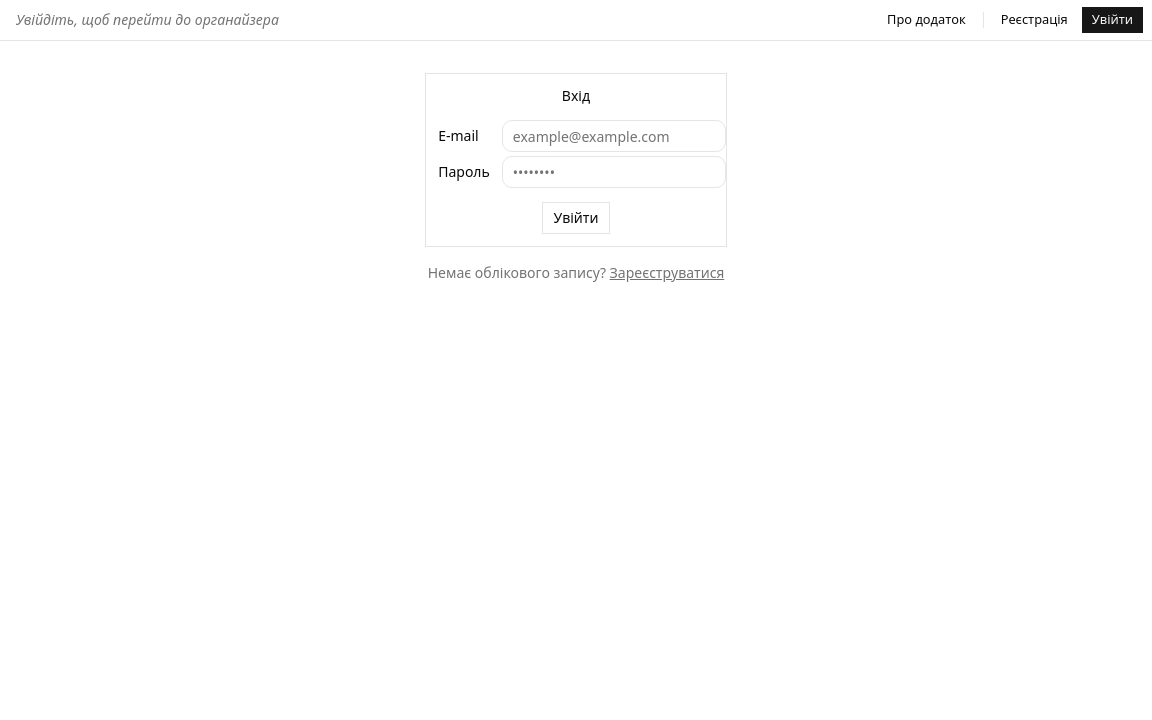
Test case: Extra Tasks › selects a task and shows detail
Type "demo@example.com" into the field with id "login-email" at [614, 136], box x1=502 y1=120 x2=726 y2=152
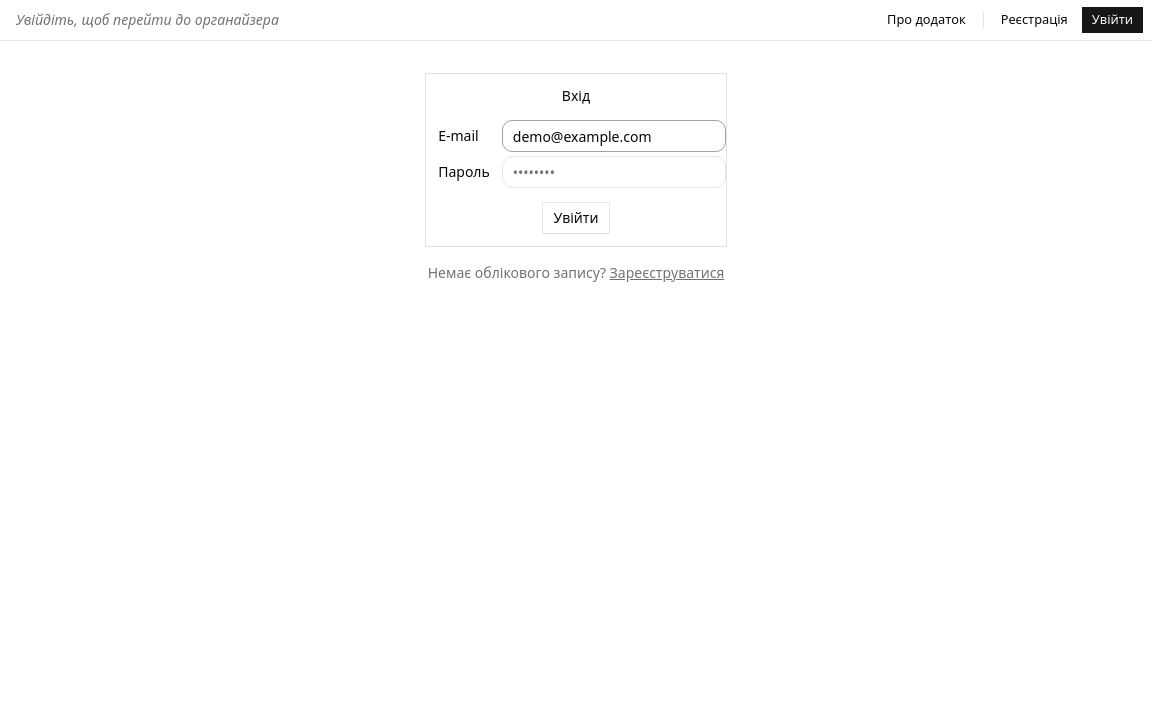
Type "demo" into the password field with id "login-password" at [614, 172], box x1=502 y1=156 x2=726 y2=188
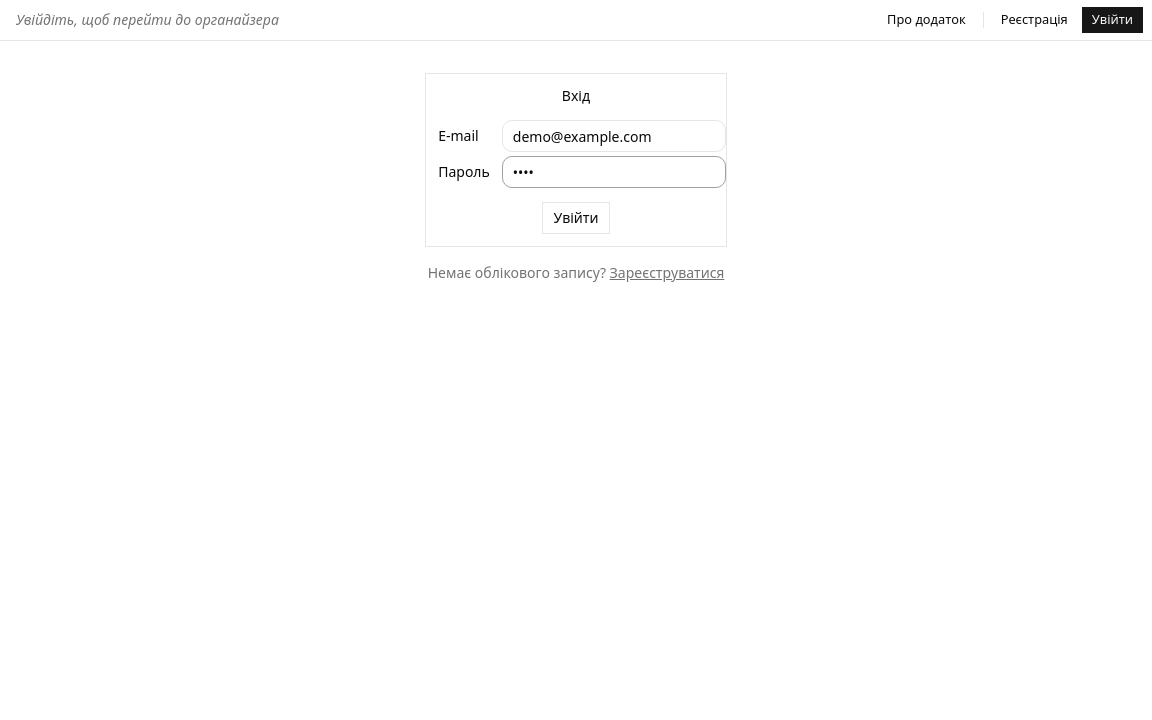
Click the button "Увійти" below "Пароль" at [576, 218], box x1=542 y1=202 x2=609 y2=234
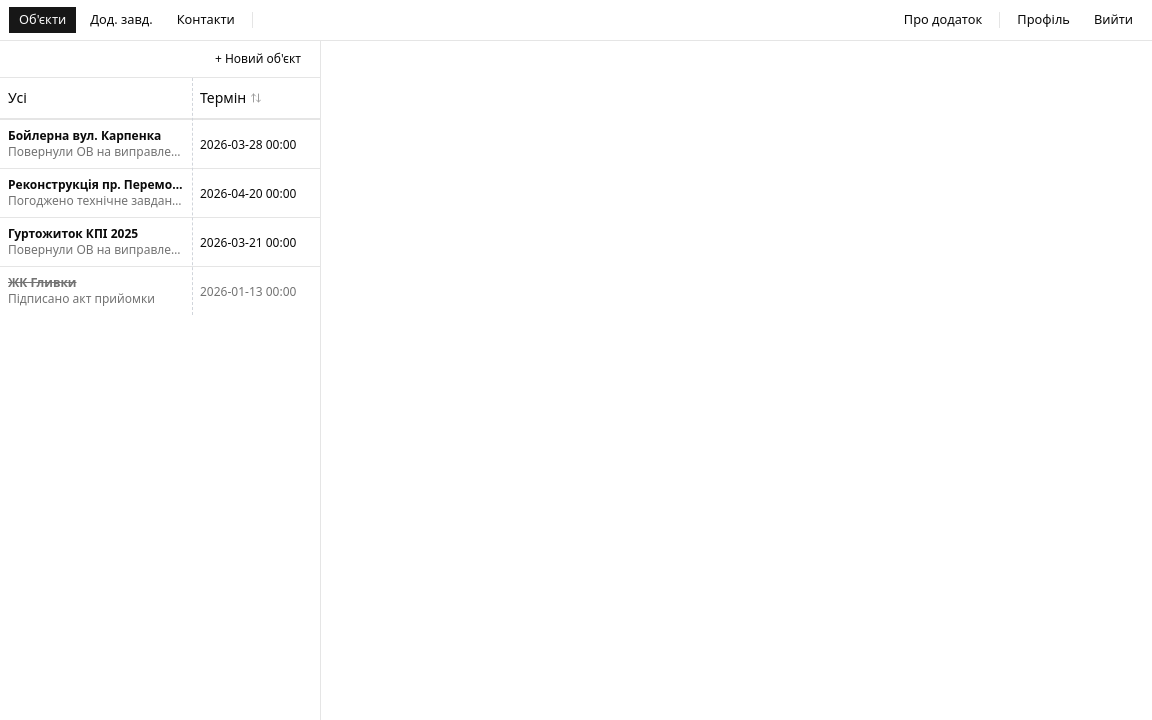
Click the button "Дод. завд." at [122, 20], box x1=79 y1=6 x2=164 y2=34
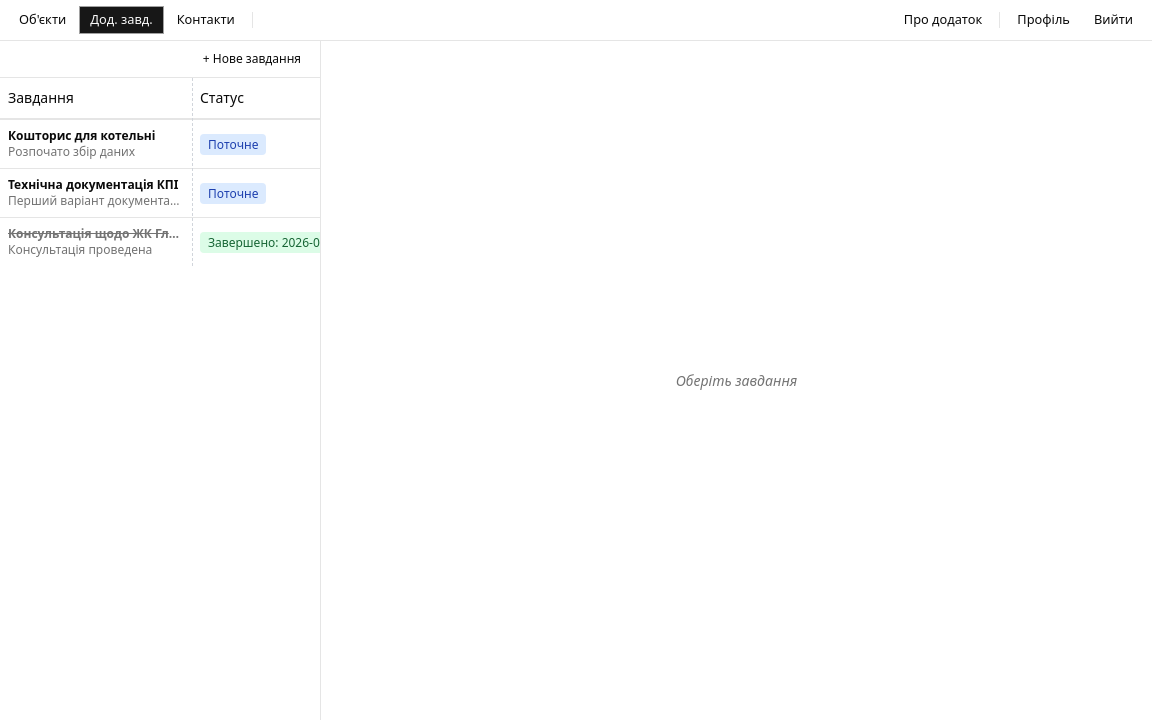
Click the text "Кошторис для котельні" at [82, 136], box x1=8 y1=127 x2=155 y2=144
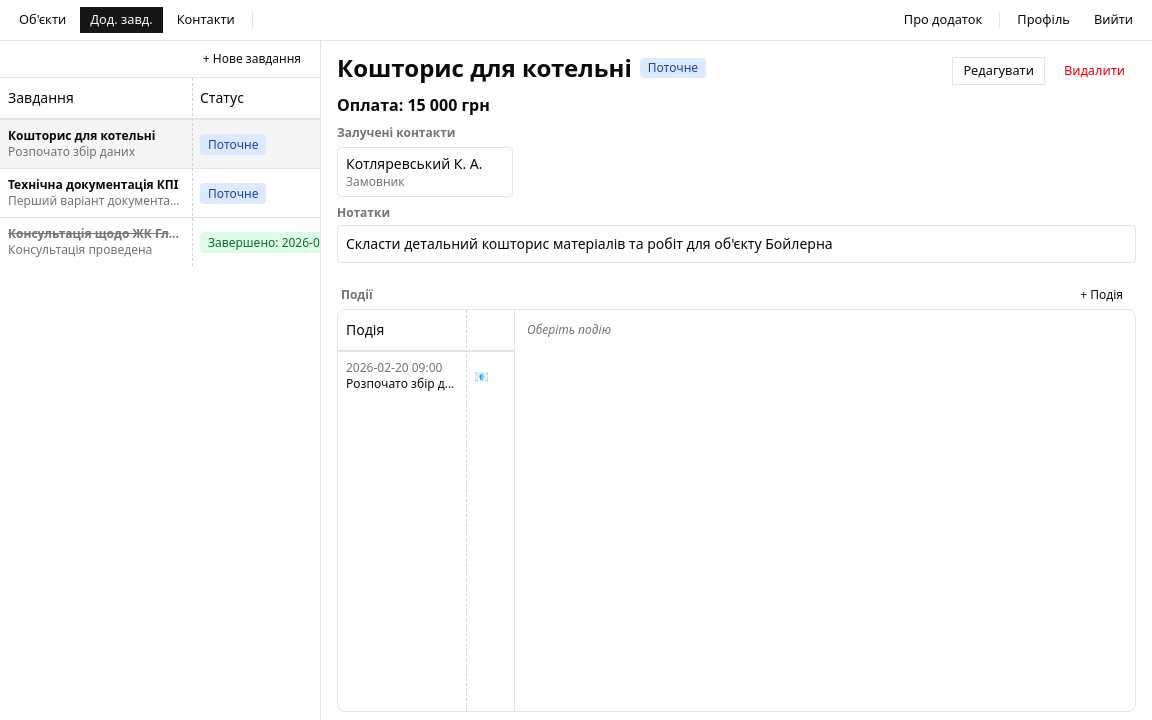
Result: the heading "Кошторис для котельні" is shown at x1=337 y1=53 x2=632 y2=83
Result: the text "15 000 грн" is shown at x1=407 y1=94 x2=489 y2=116
